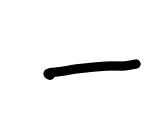minus: (42, 58, 142, 80)
